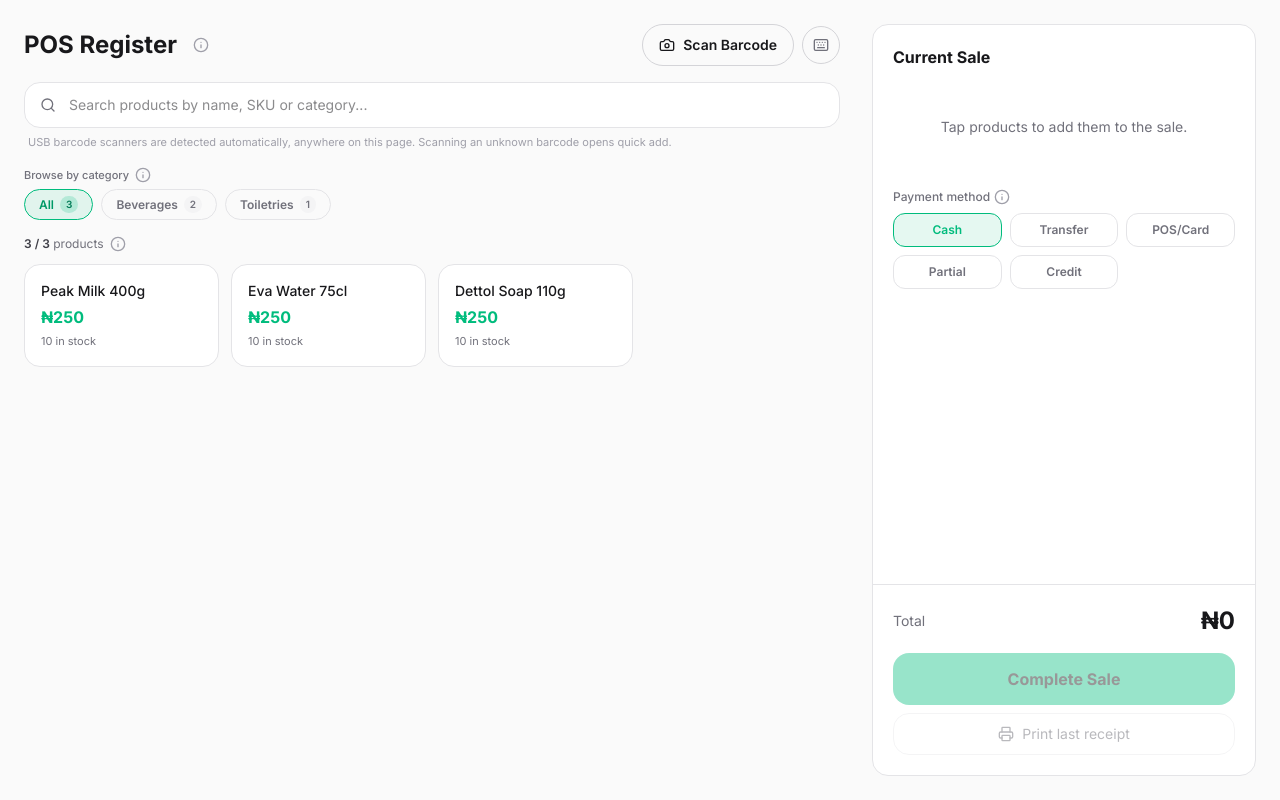
Test: POS: help tooltips › explains the category pills on focus
Check: the text "Peak Milk 400g" is shown, box x1=41 y1=281 x2=145 y2=301
Focus the button named "help: products category filters": (143, 175) x1=135 y1=167 x2=151 y2=183
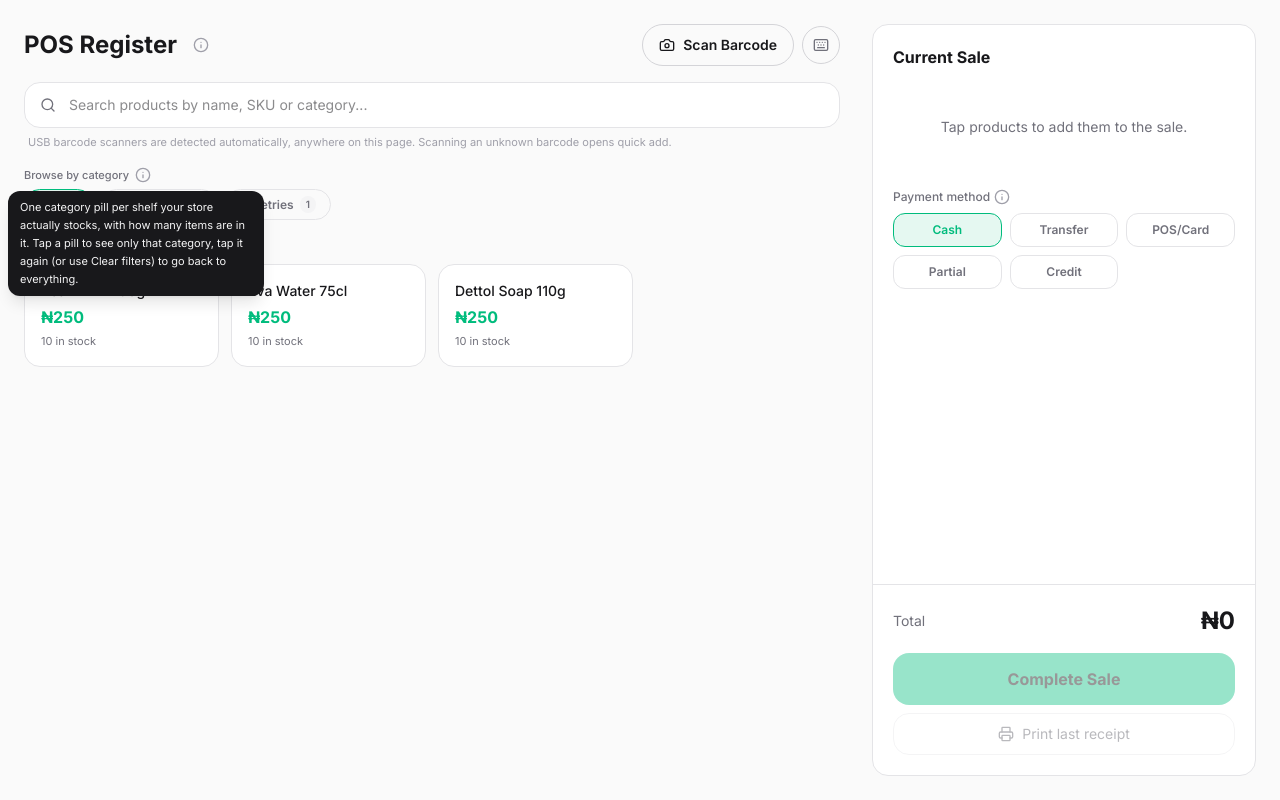
Check: the tooltip shows "category pill per shelf", box x1=20 y1=200 x2=245 y2=286
Check: the tooltip shows "category", box x1=20 y1=200 x2=245 y2=286
Press Escape
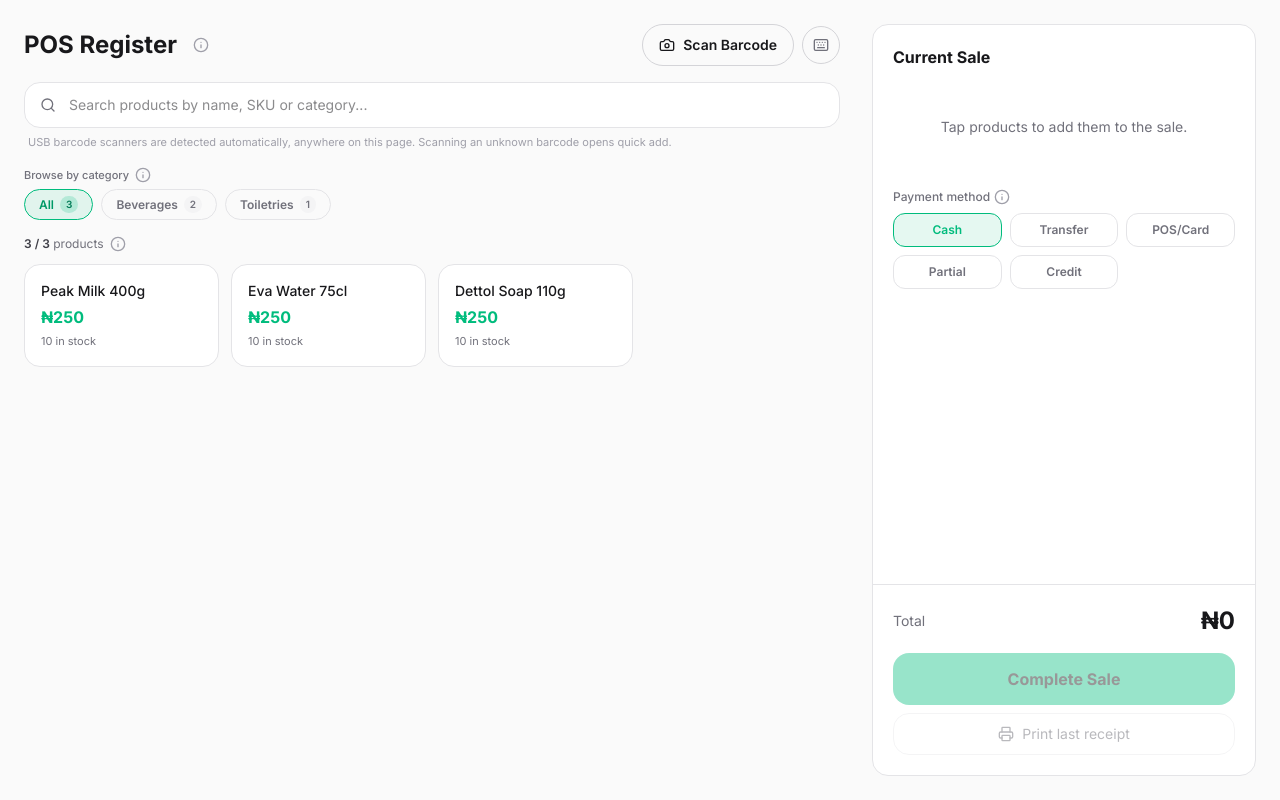
Check: the tooltip "One category pill per shelf your store actually stocks, with how many items are" is gone
